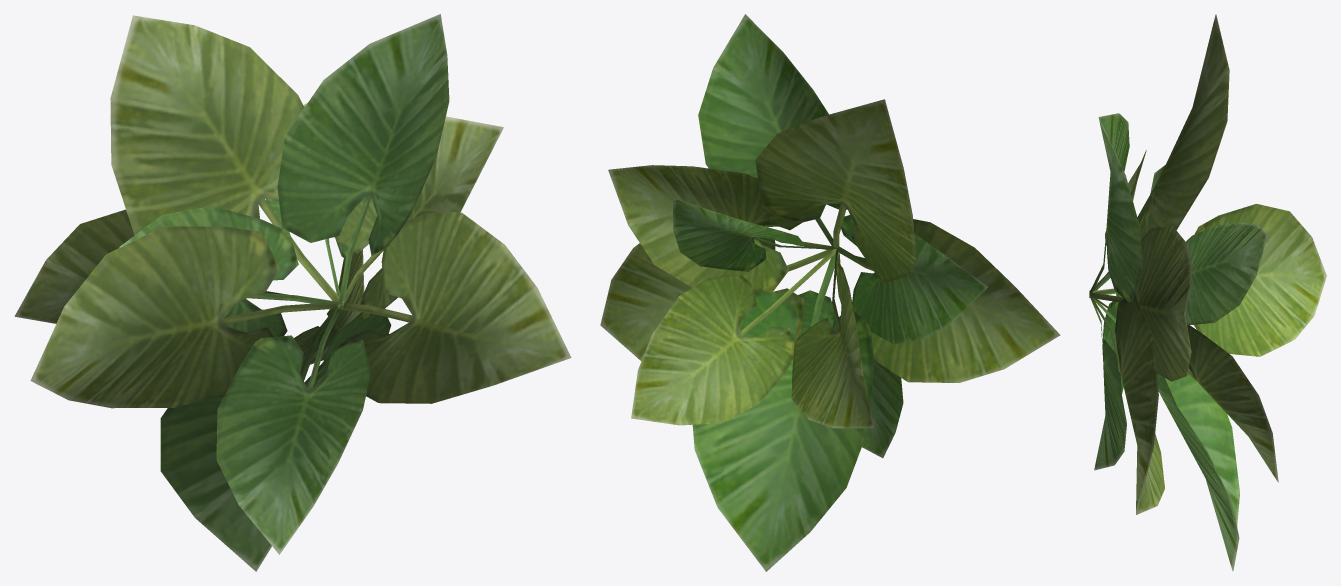
Rendered from Plant_Big_A.fbx.
3 renders of one model, left to right at view 1: azimuth 30°, elevation 25°; view 2: azimuth 150°, elevation 25°; view 3: azimuth 270°, elevation 25°, orthographic. The views are drawn at different scales.
Parts seen in each view (by area): view 1: Plant_Big_A; view 2: Plant_Big_A; view 3: Plant_Big_A.
Part boxes in pixels (<box>): Plant_Big_A: <box>14,14,571,571</box>; Plant_Big_A: <box>600,14,1060,571</box>; Plant_Big_A: <box>1089,14,1326,571</box>.
Bounding box in the file's own units: 6.18 × 6.42 × 2.75.
